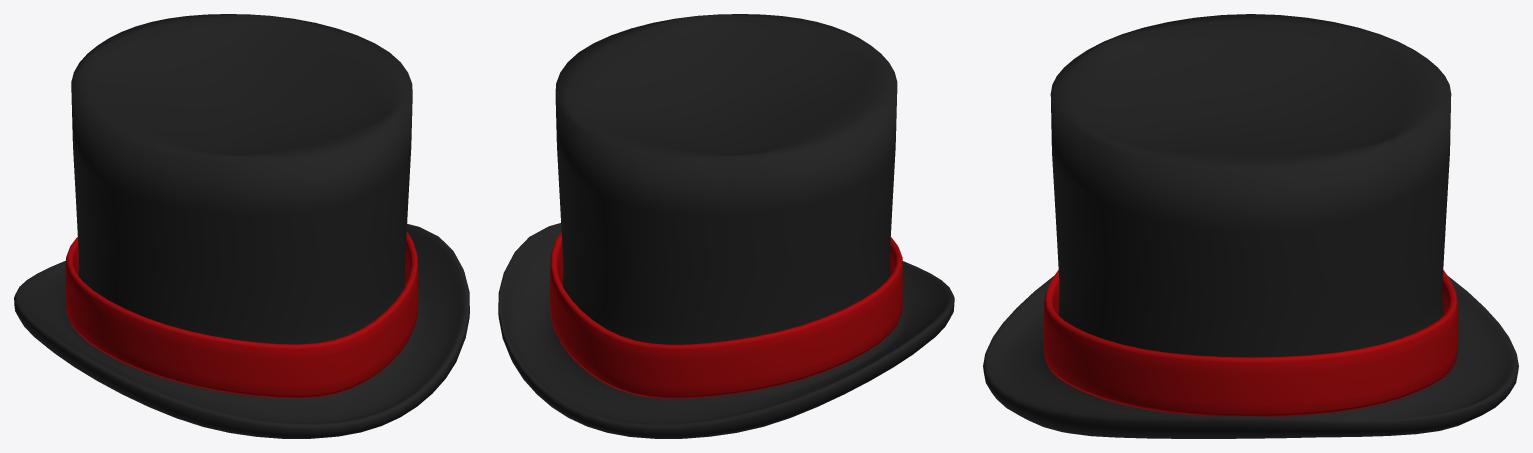
The model's file is TopHat.fbx.
The picture shows the model from 3 angles, left to right: view 1: azimuth 30°, elevation 25°; view 2: azimuth 150°, elevation 25°; view 3: azimuth 270°, elevation 25°; orthographic projection. The views are drawn at different scales.
Parts seen in each view (by area): view 1: Plane, Plane.001; view 2: Plane, Plane.001; view 3: Plane, Plane.001.
Part boxes in pixels (x1,y1,x2,y2): Plane: [14, 14, 469, 438]; Plane.001: [65, 231, 418, 398]; Plane: [498, 14, 954, 438]; Plane.001: [550, 231, 902, 398]; Plane: [983, 14, 1518, 438]; Plane.001: [1043, 270, 1458, 416].
Bounding box in the file's own units: 360 × 229 × 382.
